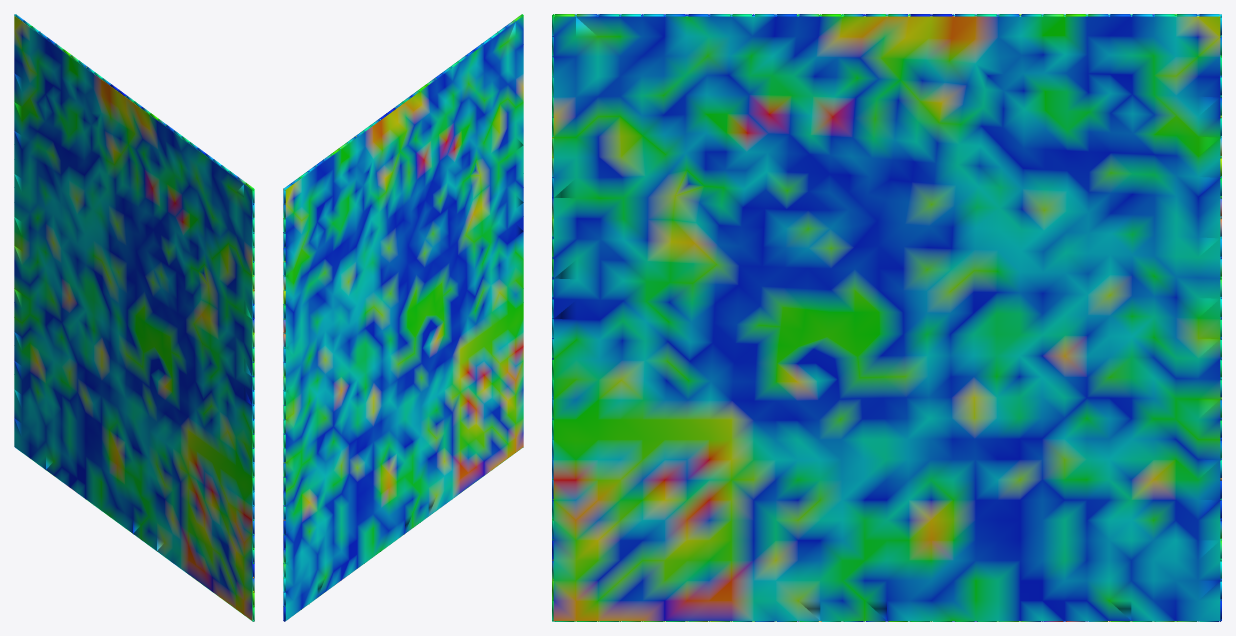
Rendered from slice.FBX.
3 views of the same model, side by side, from view 1: azimuth 30°, elevation 25°; view 2: azimuth 150°, elevation 25°; view 3: azimuth 270°, elevation 25° (orthographic). The views are drawn at different scales.
Visible parts, largest first — view 1: VIFS001, VILS001; view 2: VIFS001, VILS001; view 3: VIFS001, VILS001.
Part boxes in pixels (x1,y1,x2,y2): VIFS001: (14,16,252,620); VILS001: (14,14,254,621); VIFS001: (285,16,523,620); VILS001: (283,14,523,621); VIFS001: (553,16,1220,620); VILS001: (552,14,1221,621).
Bounding box in the file's own units: 0.0585 × 8.82 × 8.82.
